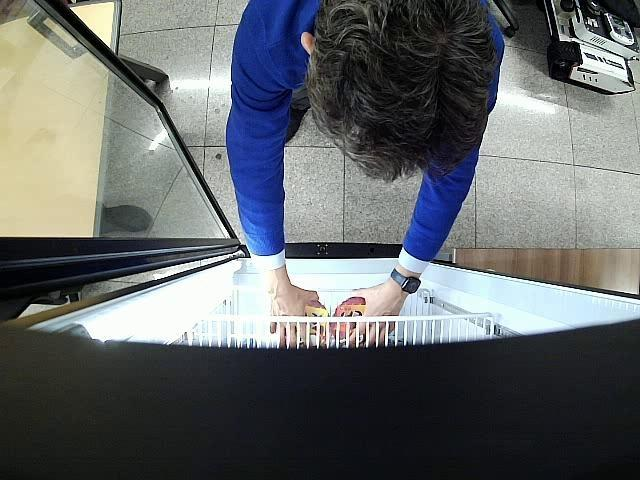05_nuguri_L: (284, 300, 330, 347), (331, 296, 365, 347)
